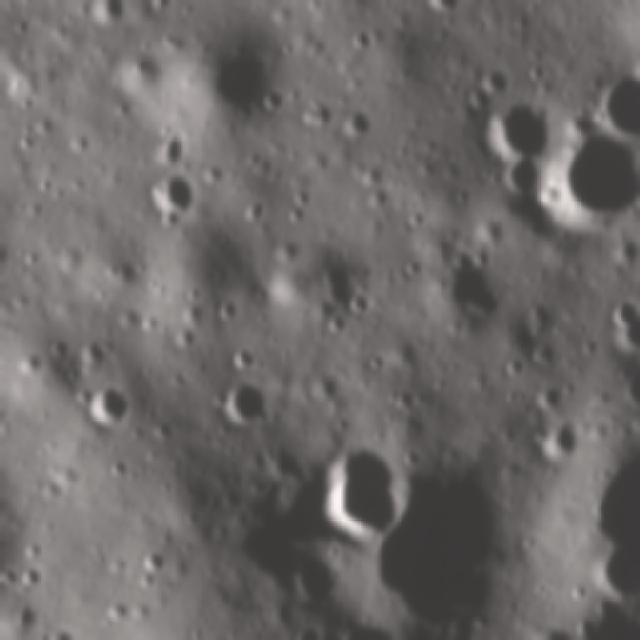crater: (367, 475, 516, 627), (186, 25, 291, 132), (308, 435, 397, 548), (537, 130, 640, 224), (429, 239, 513, 330), (574, 59, 640, 144), (481, 99, 556, 167), (142, 163, 206, 225), (308, 248, 362, 312), (591, 289, 640, 357), (73, 382, 139, 432), (207, 374, 271, 423), (113, 49, 167, 96), (540, 414, 586, 468), (528, 378, 566, 417), (86, 0, 137, 28), (139, 546, 176, 576), (416, 0, 458, 23)
